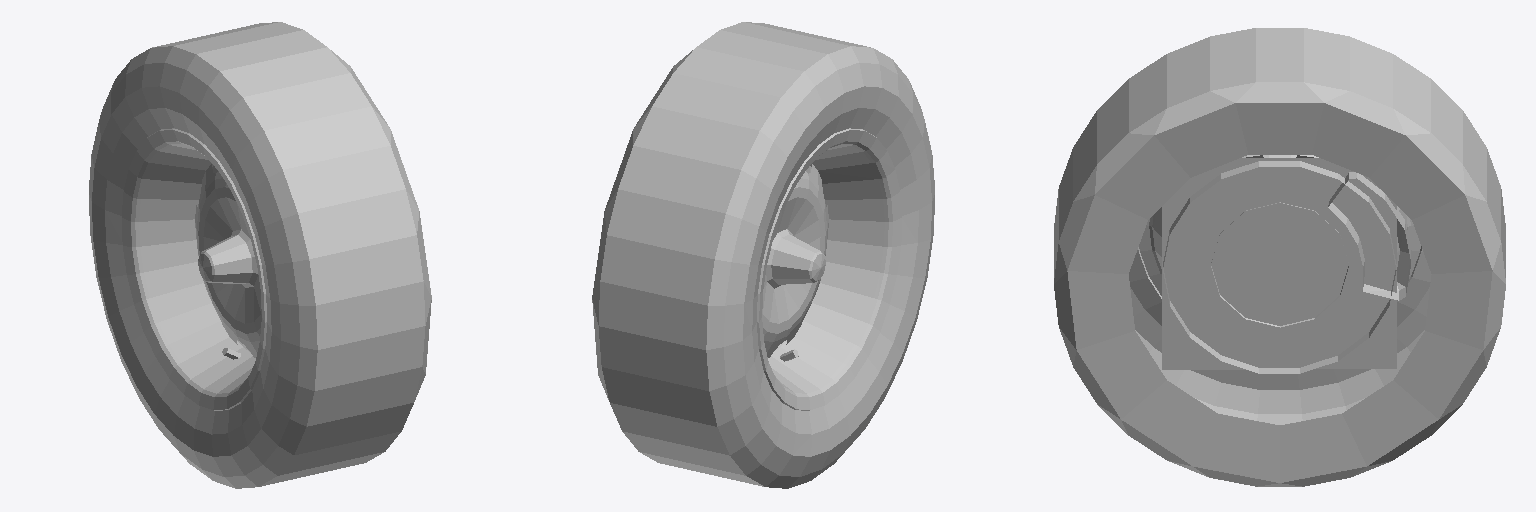
Rendered from TirePSX-mtl.obj.
3 renders of one model, left to right at view 1: azimuth 30°, elevation 25°; view 2: azimuth 150°, elevation 25°; view 3: azimuth 270°, elevation 25°, orthographic.
Parts seen in each view (by area): view 1: CHALLENGER71.006_CHALLENGER71.004; view 2: CHALLENGER71.006_CHALLENGER71.004; view 3: CHALLENGER71.006_CHALLENGER71.004.
Part boxes in pixels (left/top/right/bottom): CHALLENGER71.006_CHALLENGER71.004: left=89, top=22, right=431, bottom=488; CHALLENGER71.006_CHALLENGER71.004: left=592, top=22, right=934, bottom=488; CHALLENGER71.006_CHALLENGER71.004: left=1054, top=28, right=1505, bottom=486.
Bounding box in the file's own units: 0.2377 × 0.6429 × 0.6434.